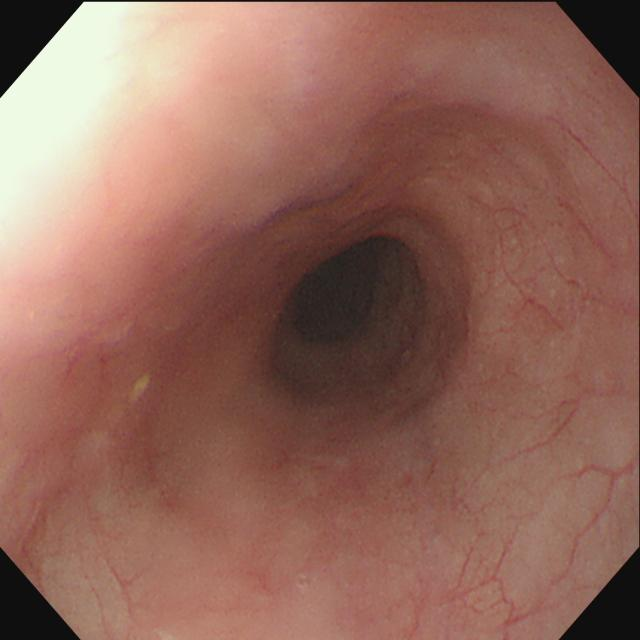E: (282, 237, 424, 375)
